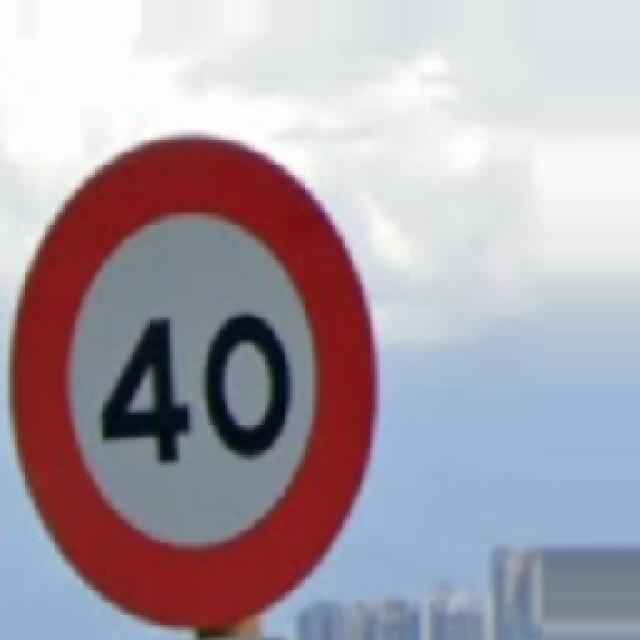Speed Limit -40-: (12, 138, 375, 625)
